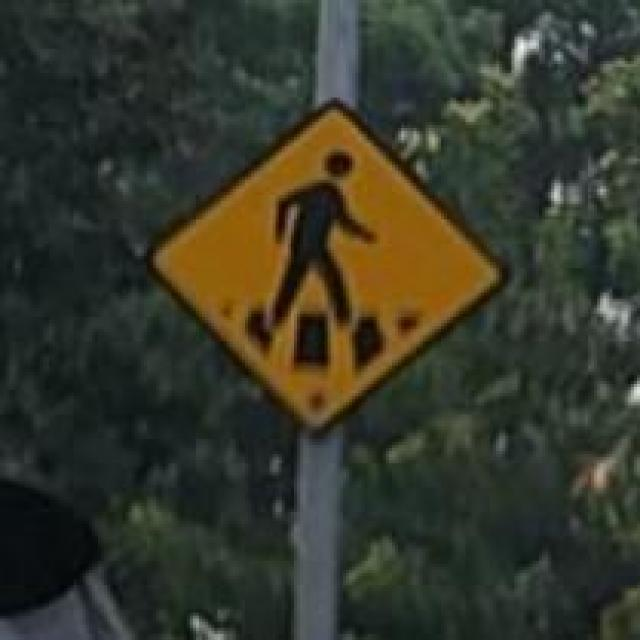traffic sign: (168, 107, 490, 408)
